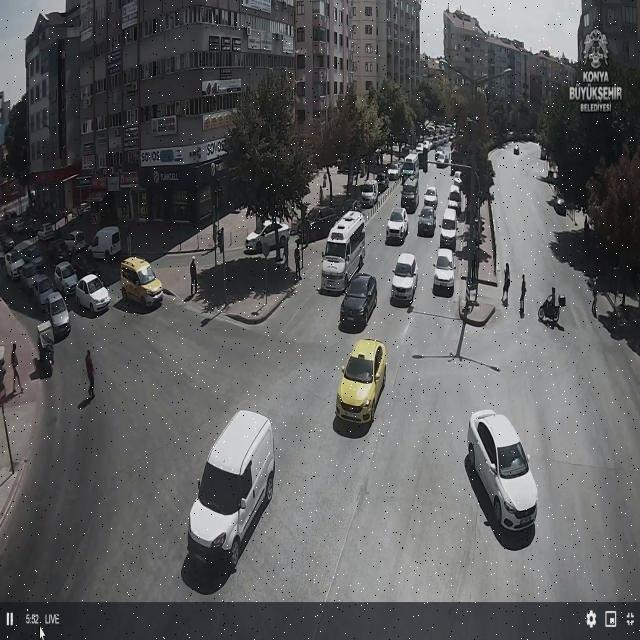Car: (464, 407, 541, 535), (335, 339, 386, 424), (338, 273, 378, 330), (120, 256, 163, 307), (244, 219, 290, 258), (301, 206, 343, 242), (75, 274, 112, 314), (390, 253, 418, 304), (43, 294, 70, 338), (433, 248, 456, 292), (27, 275, 58, 307), (53, 262, 80, 297), (386, 207, 409, 242), (439, 212, 459, 249), (418, 206, 438, 237), (360, 180, 380, 208), (423, 185, 438, 210)
Cycle: (538, 295, 567, 323)
Van: (186, 410, 274, 571), (320, 210, 368, 294)
